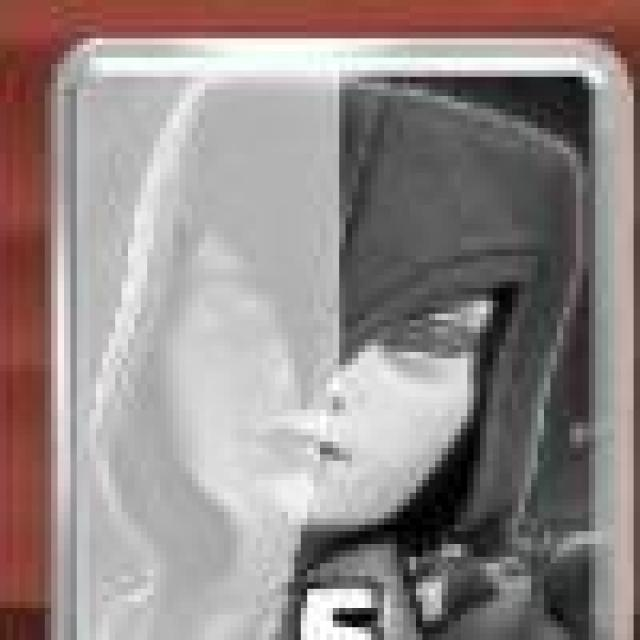Witch: (53, 38, 623, 640)
